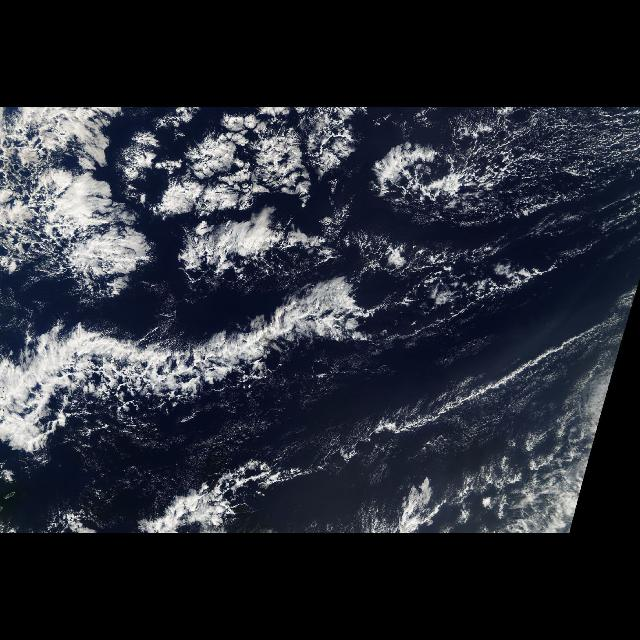Fish: (4, 249, 480, 455)
Flower: (133, 108, 373, 235)
